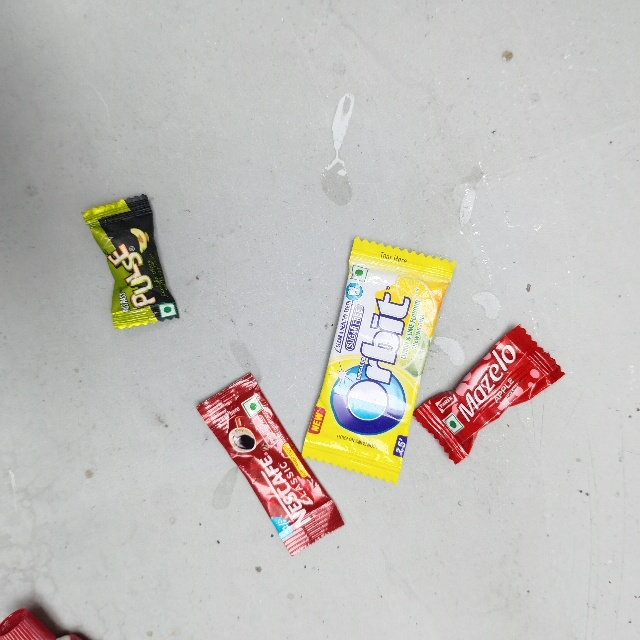Mazelo: (409, 416, 555, 486)
Nescafe Coffee: (194, 400, 263, 579)
Orbit: (351, 235, 461, 469)
Pulse: (78, 211, 155, 335)
